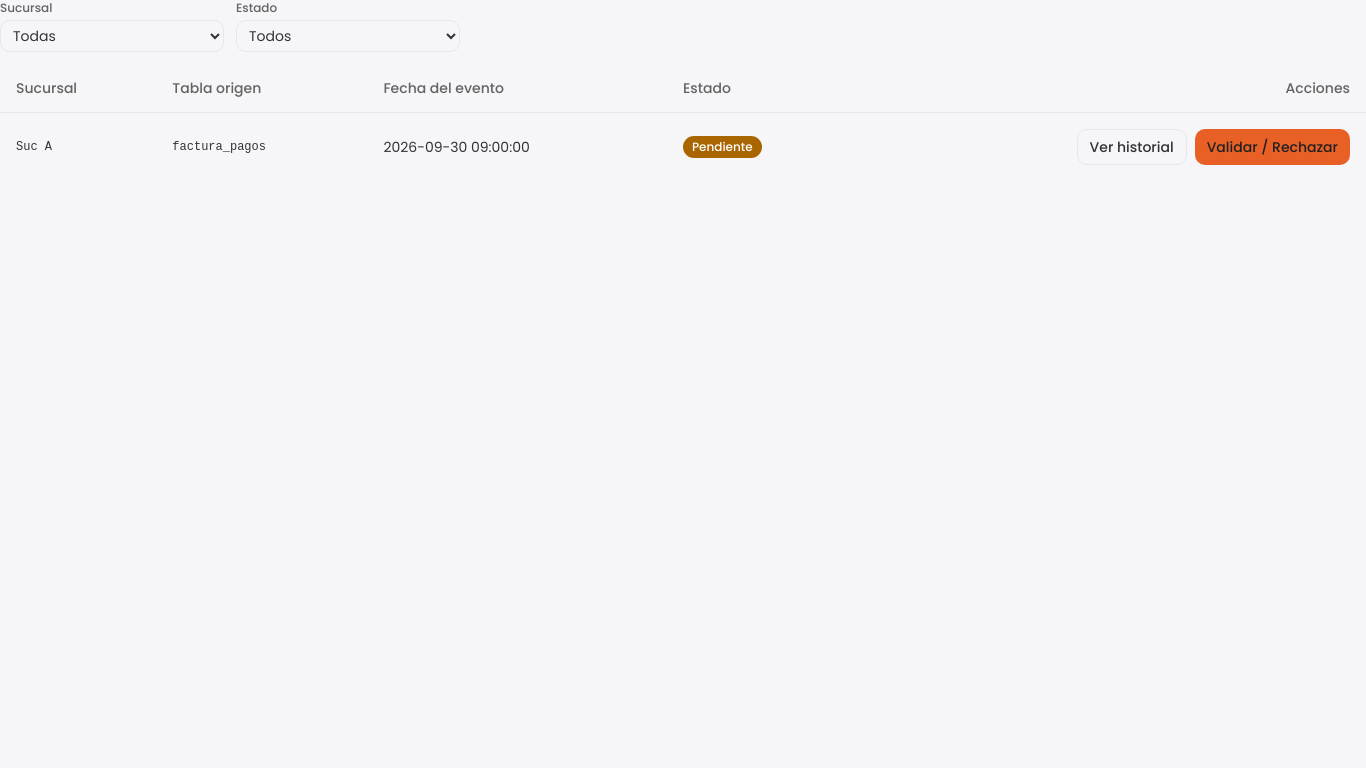
ValidacionEventos › T3: resolving a pendiente row opens the modal and revalidates on success
Click the button with test id "validacion-eventos-resolver-aaaaaaaa-0000-0000-0000-000000000001" at (1272, 146), box [1195,128,1350,164]
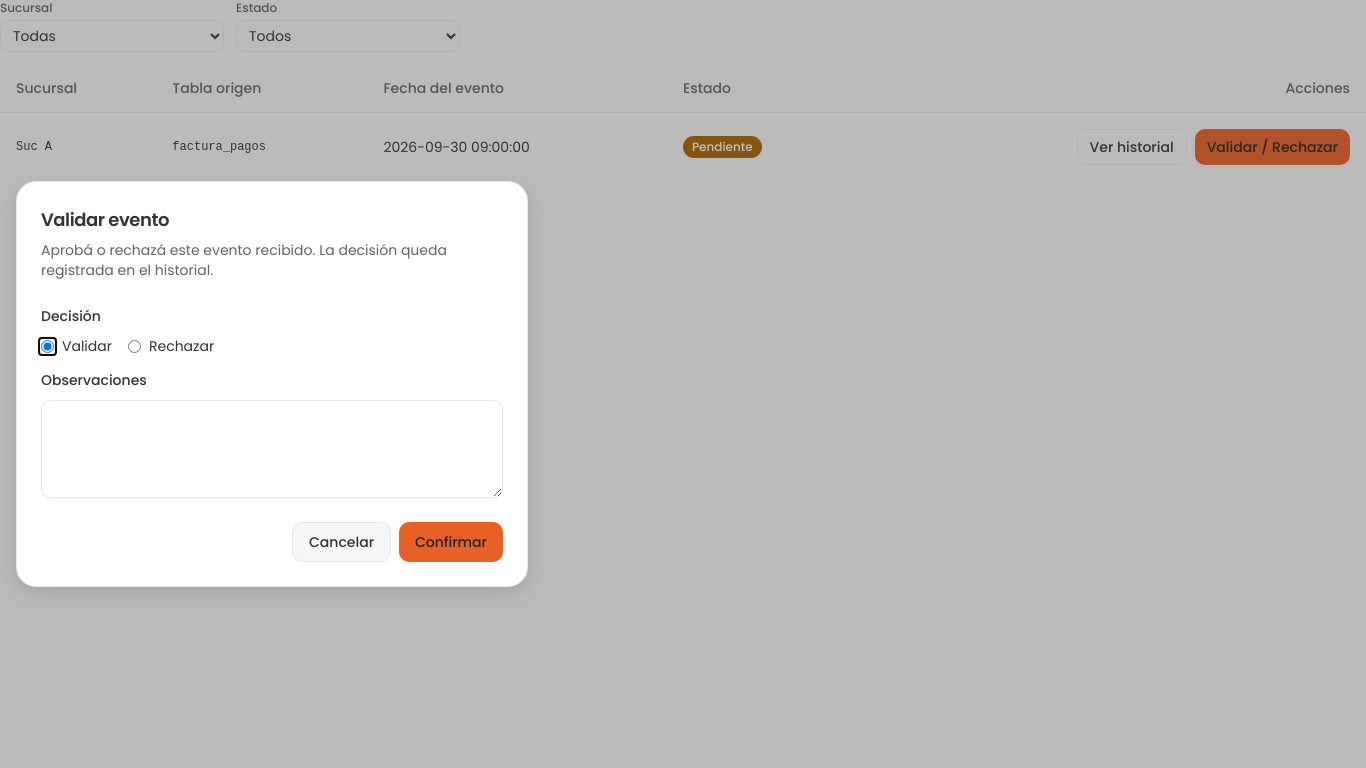
Result: the dialog with test id "validar-evento-modal" is shown at [16,181,528,587]
Click the button with test id "validar-evento-submit" at (451, 542), box [399,522,503,562]
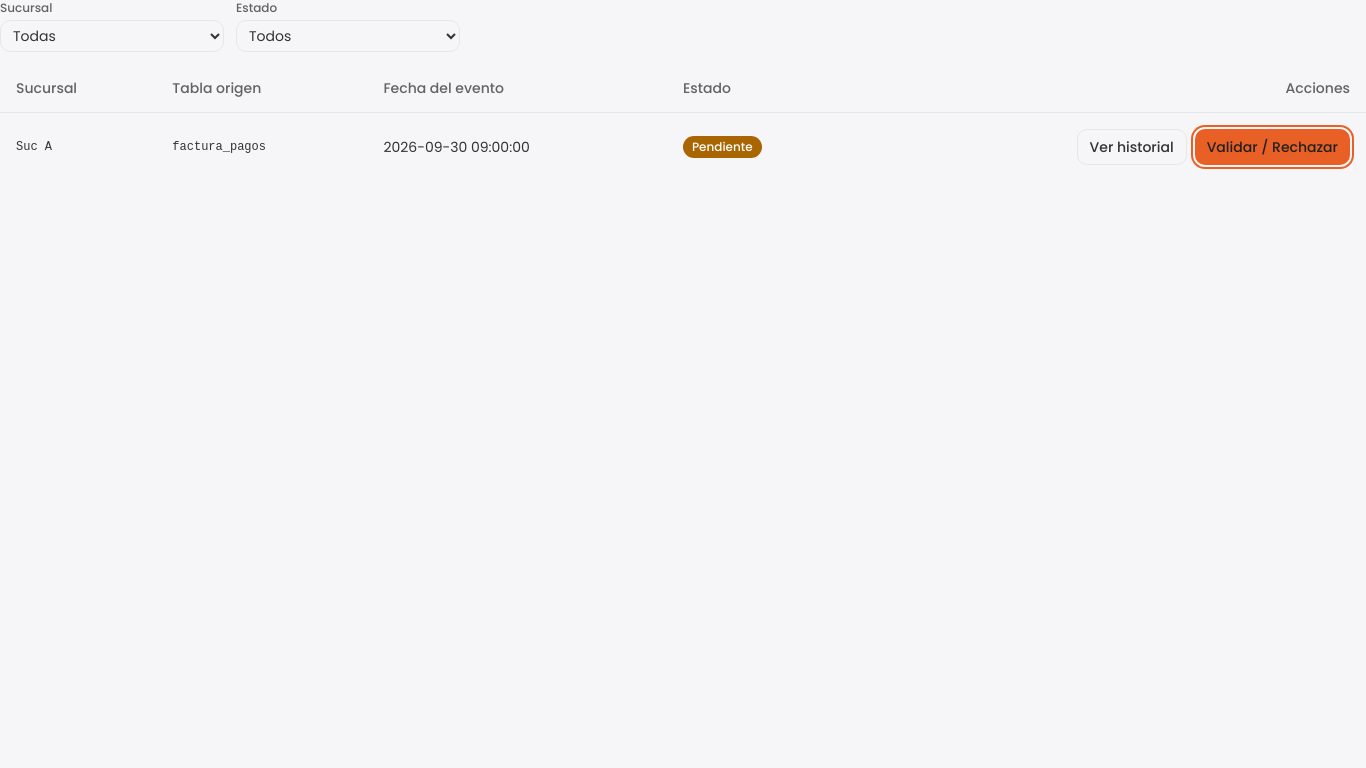
Result: the dialog with test id "validar-evento-modal" is gone
